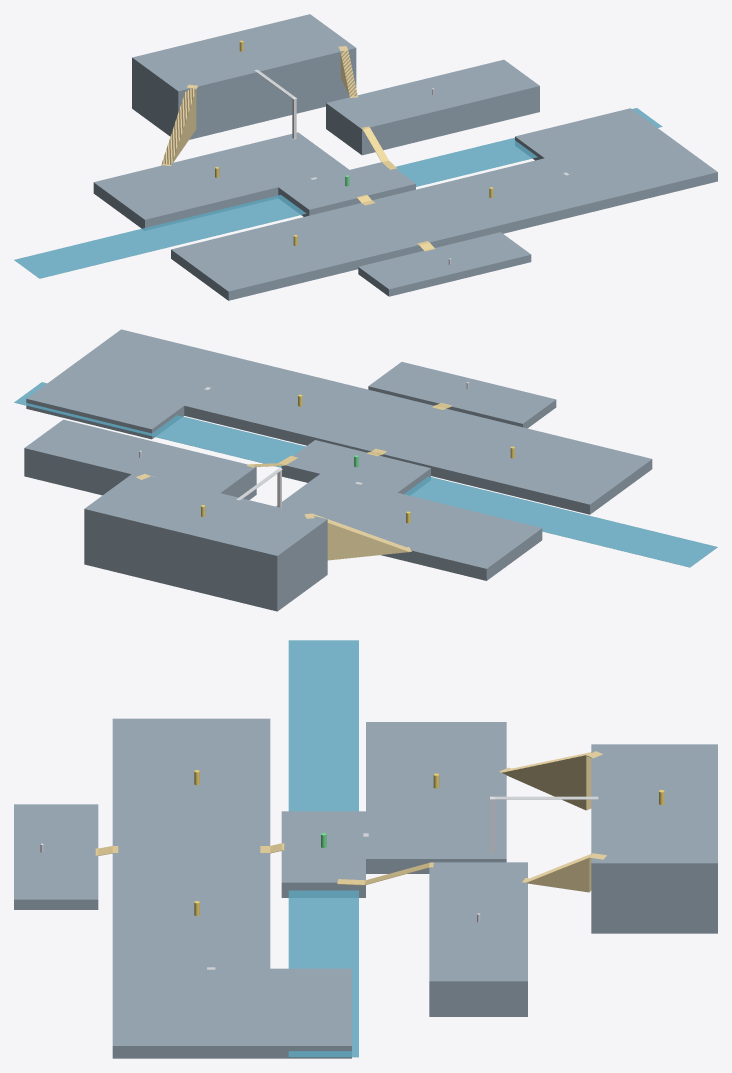
File: greybox.glb
3 renders of one model, top to bottom at view 1: azimuth 30°, elevation 25°; view 2: azimuth 150°, elevation 25°; view 3: azimuth 270°, elevation 25°, orthographic. The views are drawn at different scales.
Visible parts, largest first — view 1: ZONE_exchange, ZONE_bastion, ZONE_crucible, ZONE_cathedral, ZONE_smelter, WATER_艾森河, ZONE_barracks, ZONE_locks, LINK_oath-stair, LINK_cathedral-stair; view 2: ZONE_exchange, ZONE_bastion, ZONE_smelter, ZONE_crucible, WATER_艾森河, ZONE_cathedral, ZONE_barracks, ZONE_locks, LINK_oath-stair; view 3: ZONE_exchange, ZONE_bastion, ZONE_smelter, ZONE_crucible, WATER_艾森河, ZONE_cathedral, ZONE_barracks, ZONE_locks, LINK_oath-stair, LINK_cathedral-stair.
Boxes of the visible parts, x1,y1,x2,y2 form: ZONE_exchange: [171, 158, 602, 300]; ZONE_bastion: [132, 14, 356, 139]; ZONE_crucible: [93, 132, 349, 229]; ZONE_cathedral: [326, 59, 539, 155]; ZONE_smelter: [515, 108, 717, 209]; WATER_艾森河: [14, 108, 662, 278]; ZONE_barracks: [358, 232, 531, 296]; ZONE_locks: [278, 162, 415, 216]; LINK_oath-stair: [161, 84, 198, 165]; LINK_cathedral-stair: [338, 46, 357, 97]; ZONE_exchange: [184, 360, 652, 514]; ZONE_bastion: [84, 472, 327, 611]; ZONE_smelter: [26, 329, 246, 439]; ZONE_crucible: [276, 474, 542, 580]; WATER_艾森河: [14, 382, 717, 567]; ZONE_cathedral: [24, 419, 256, 499]; ZONE_barracks: [368, 362, 556, 428]; ZONE_locks: [281, 440, 430, 494]; LINK_oath-stair: [304, 513, 411, 560]; ZONE_exchange: [112, 718, 270, 968]; ZONE_bastion: [591, 744, 717, 933]; ZONE_smelter: [112, 968, 351, 1058]; ZONE_crucible: [366, 722, 506, 873]; WATER_艾森河: [288, 640, 358, 1057]; ZONE_cathedral: [429, 862, 527, 1016]; ZONE_barracks: [14, 804, 98, 909]; ZONE_locks: [281, 811, 365, 897]; LINK_oath-stair: [499, 751, 602, 810]; LINK_cathedral-stair: [522, 853, 606, 892].
Size of the model in its own units: 700 by 65 by 500.
